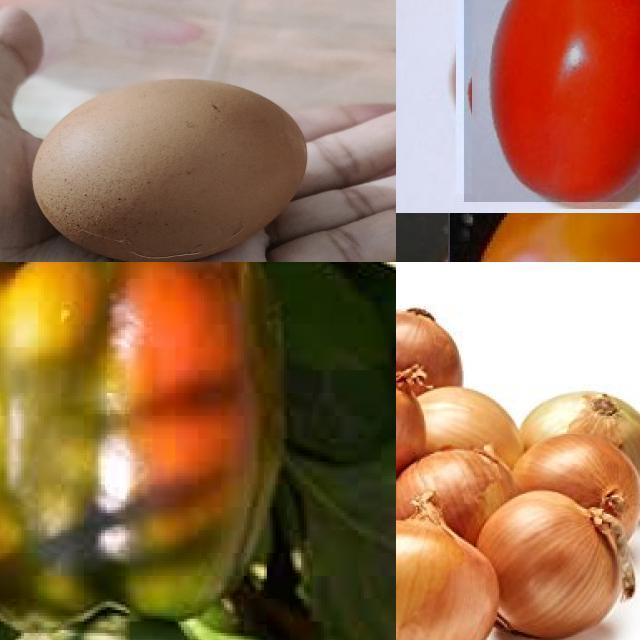bell_pepper: (1, 263, 291, 640)
egg: (32, 72, 318, 263)
onion: (480, 493, 624, 640), (397, 491, 499, 640), (516, 431, 640, 553), (521, 390, 640, 506), (397, 446, 518, 543), (397, 312, 464, 397)
tomato: (465, 1, 640, 203)
